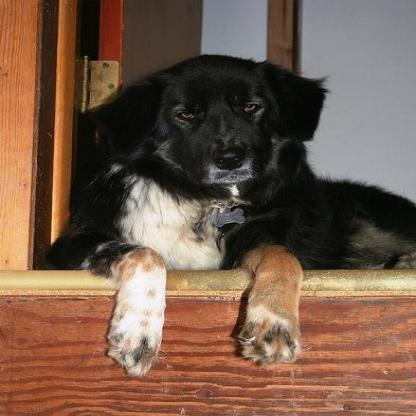Tibetan_mastiff: (42, 51, 413, 382)
